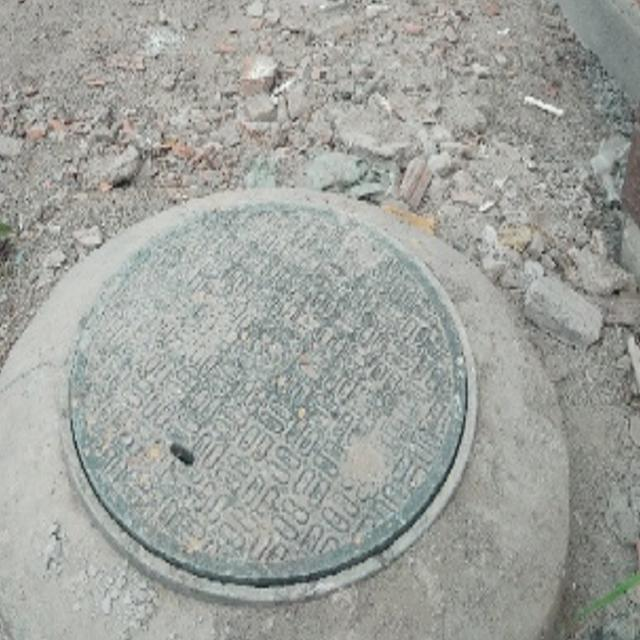good: (60, 203, 478, 608)
